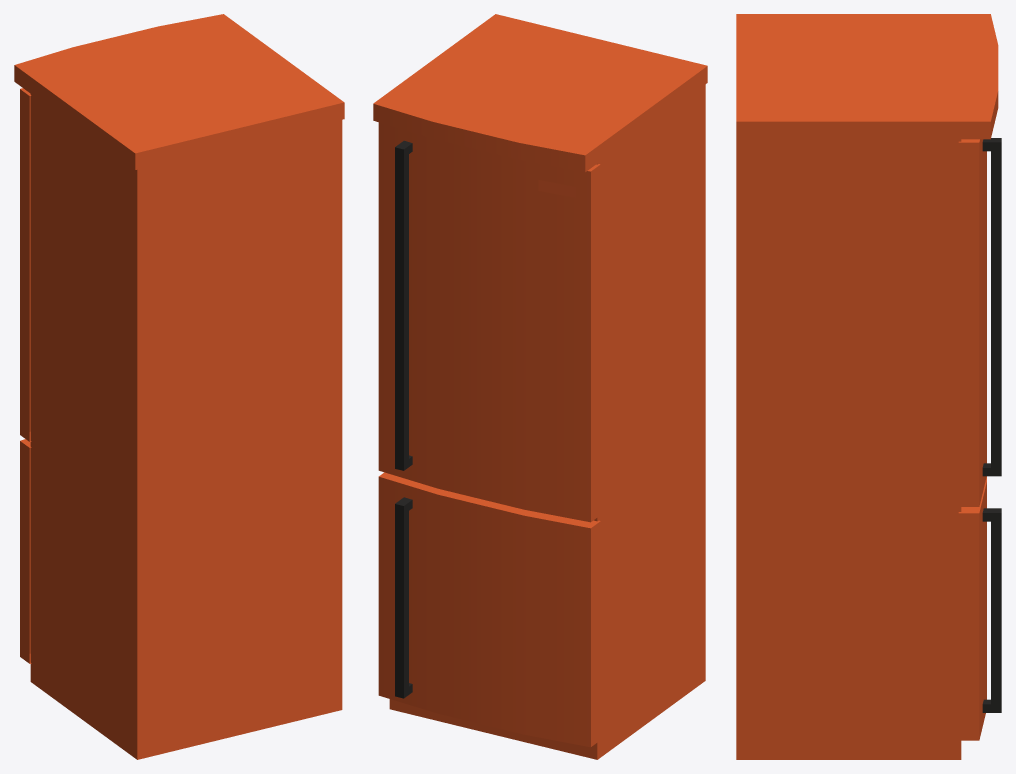
The model's file is Furniture_FridgeFreezer_SingleDoor.fbx.
The picture shows the model from 3 angles, left to right: view 1: azimuth 30°, elevation 25°; view 2: azimuth 150°, elevation 25°; view 3: azimuth 270°, elevation 25°; orthographic projection. The views are drawn at different scales.
Parts seen in each view (by area): view 1: fridge_001; view 2: fridge_001; view 3: fridge_001.
Part boxes in pixels (box(x1,y1,x2,y2)): fridge_001: box(14, 14, 344, 759); fridge_001: box(373, 14, 707, 759); fridge_001: box(736, 14, 1001, 759).
Size of the model in its own units: 98.26 by 272 by 102.
